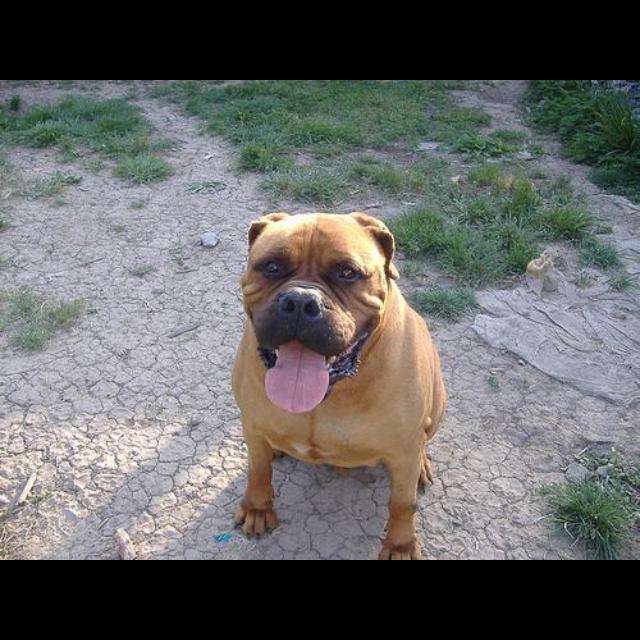bullmastiff: (230, 211, 446, 560)
